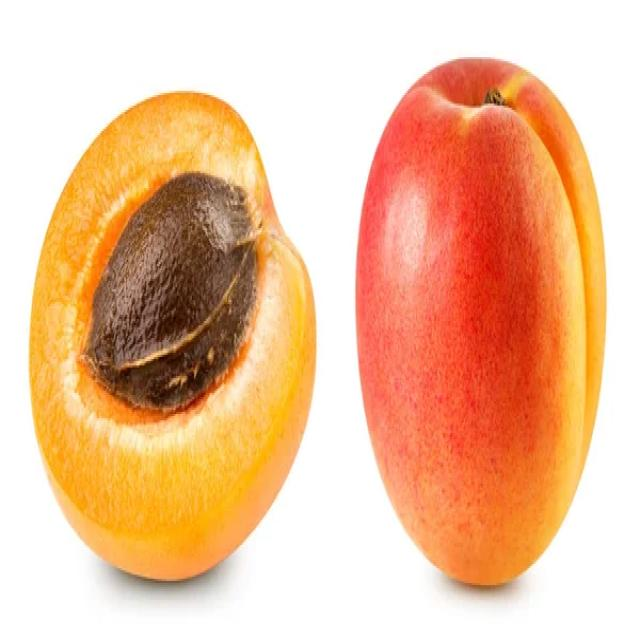kayisi: (30, 93, 318, 585), (354, 59, 608, 591)
kayisicekirdegi: (82, 173, 259, 409)
